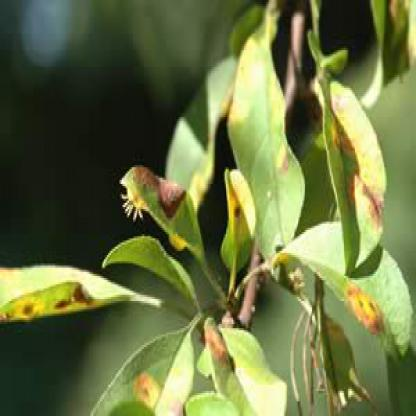apple rust leaf: (312, 61, 404, 280), (1, 259, 159, 324)
